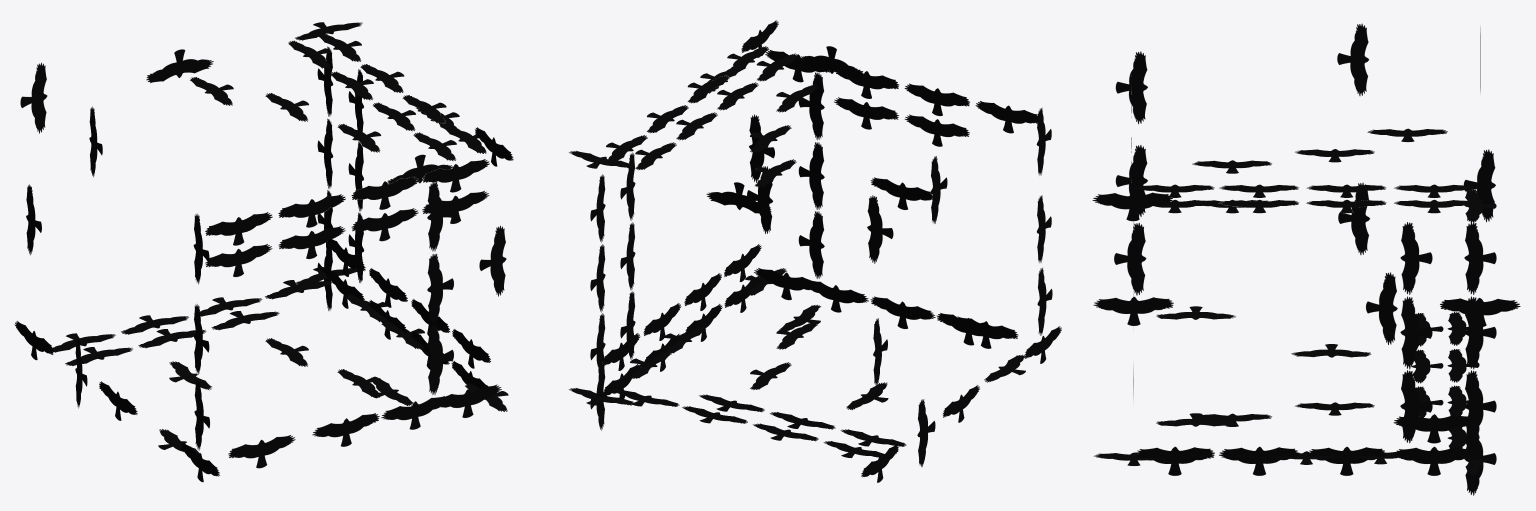
The model's file is asset.glb.
3 views of the same model, side by side, from view 1: azimuth 30°, elevation 25°; view 2: azimuth 150°, elevation 25°; view 3: azimuth 270°, elevation 25° (orthographic). The views are drawn at different scales.
Parts seen in each view (by area): view 1: vogelstickerrichtig.015, vogelstickerrichtig.017, vogelstickerrichtig.009, vogelstickerrichtig.014, vogelstickerrichtig.005, vogelstickerrichtig.113, vogelstickerrichtig.041, vogelstickerrichtig.115, vogelstickerrichtig.047, vogelstickerrichtig.043, vogelstickerrichtig.112, vogelstickerrichtig.116 (+10 smaller); view 2: vogelstickerrichtig.005, vogelstickerrichtig.112, vogelstickerrichtig.009, vogelstickerrichtig.010, vogelstickerrichtig.043, vogelstickerrichtig.041, vogelstickerrichtig.116, vogelstickerrichtig.047, vogelstickerrichtig.045, vogelstickerrichtig.117, vogelstickerrichtig.046, vogelstickerrichtig.048 (+9 smaller); view 3: vogelstickerrichtig.007, vogelstickerrichtig.011, vogelstickerrichtig.018, vogelstickerrichtig.023, vogelstickerrichtig.016, vogelstickerrichtig.019, vogelstickerrichtig.012, vogelstickerrichtig.040, vogelstickerrichtig.039, vogelstickerrichtig.038, vogelstickerrichtig.032, vogelstickerrichtig.069 (+27 smaller).
Part boxes in pixels (x1,y1,x2,y2): vogelstickerrichtig.015: (434,384,501,417); vogelstickerrichtig.017: (479,225,506,296); vogelstickerrichtig.009: (146,49,213,83); vogelstickerrichtig.014: (228,435,295,468); vogelstickerrichtig.005: (20,62,47,133); vogelstickerrichtig.113: (351,176,418,209); vogelstickerrichtig.041: (427,254,453,323); vogelstickerrichtig.115: (422,191,489,223); vogelstickerrichtig.047: (312,413,379,446); vogelstickerrichtig.043: (427,325,453,394); vogelstickerrichtig.112: (278,194,345,227); vogelstickerrichtig.116: (351,208,418,241); vogelstickerrichtig.005: (867,195,893,263); vogelstickerrichtig.112: (905,83,969,115); vogelstickerrichtig.009: (706,182,771,214); vogelstickerrichtig.010: (799,46,863,78); vogelstickerrichtig.043: (798,211,824,278); vogelstickerrichtig.041: (798,142,824,209); vogelstickerrichtig.116: (834,97,898,129); vogelstickerrichtig.047: (870,296,935,328); vogelstickerrichtig.045: (936,313,1001,345); vogelstickerrichtig.117: (905,114,969,146); vogelstickerrichtig.046: (804,280,868,312); vogelstickerrichtig.048: (870,177,932,209); vogelstickerrichtig.007: (1464,296,1496,369); vogelstickerrichtig.011: (1092,192,1172,221); vogelstickerrichtig.018: (1114,222,1146,295); vogelstickerrichtig.023: (1093,296,1173,325); vogelstickerrichtig.016: (1464,370,1496,443); vogelstickerrichtig.019: (1115,51,1147,124); vogelstickerrichtig.012: (1464,222,1496,294); vogelstickerrichtig.040: (1400,296,1432,369); vogelstickerrichtig.039: (1400,222,1432,294); vogelstickerrichtig.038: (1400,370,1432,442); vogelstickerrichtig.032: (1337,23,1369,96); vogelstickerrichtig.069: (1134,446,1214,475).
Bounding box in the file's own units: 11.69 × 10.43 × 12.38.
Materials: 131 (131 with a texture image).
